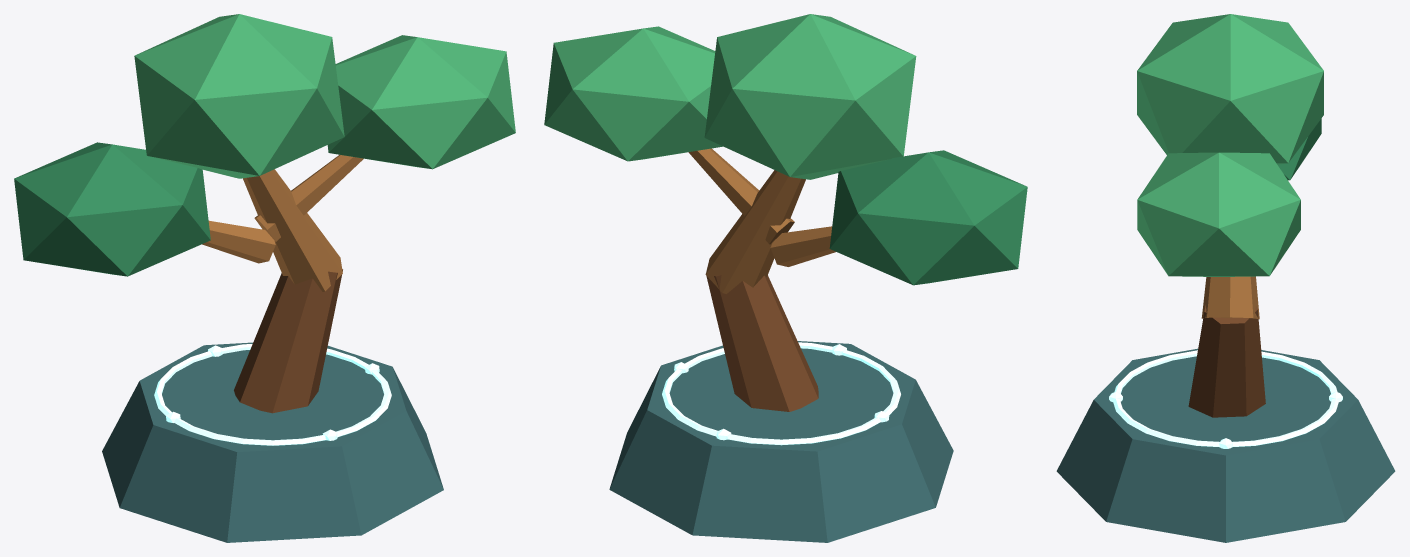
The model's file is growing.glb.
3 renders of one model, left to right at view 1: azimuth 30°, elevation 25°; view 2: azimuth 150°, elevation 25°; view 3: azimuth 270°, elevation 25°, orthographic. The views are drawn at different scales.
Parts seen in each view (by area): view 1: Bonsai_Pot, Bonsai_Crown, Bonsai_Pad_01, Bonsai_Pad_02, Bonsai_Trunk_01, Bonsai_Trunk_02, Chrono_Energy_Ring, Bonsai_Branch_02, Bonsai_Branch_01; view 2: Bonsai_Pot, Bonsai_Crown, Bonsai_Pad_01, Bonsai_Pad_02, Bonsai_Trunk_01, Bonsai_Trunk_02, Chrono_Energy_Ring, Bonsai_Branch_02, Bonsai_Branch_01; view 3: Bonsai_Pot, Bonsai_Crown, Bonsai_Pad_02, Bonsai_Trunk_01, Chrono_Energy_Ring, Bonsai_Trunk_02, Bonsai_Pad_01.
Part boxes in pixels (x1,y1,x2,y2): Bonsai_Pot: [102, 342, 443, 542]; Bonsai_Crown: [134, 14, 344, 178]; Bonsai_Pad_01: [14, 142, 210, 276]; Bonsai_Pad_02: [327, 35, 515, 169]; Bonsai_Trunk_01: [234, 269, 342, 413]; Bonsai_Trunk_02: [243, 169, 342, 291]; Chrono_Energy_Ring: [154, 344, 391, 445]; Bonsai_Branch_02: [254, 154, 363, 241]; Bonsai_Branch_01: [202, 220, 275, 263]; Bonsai_Pot: [609, 341, 953, 542]; Bonsai_Crown: [704, 14, 916, 179]; Bonsai_Pad_01: [829, 150, 1027, 285]; Bonsai_Pad_02: [544, 26, 722, 161]; Bonsai_Trunk_01: [706, 275, 818, 411]; Bonsai_Trunk_02: [705, 170, 805, 293]; Chrono_Energy_Ring: [662, 342, 900, 445]; Bonsai_Branch_02: [688, 148, 794, 244]; Bonsai_Branch_01: [770, 226, 835, 266]; Bonsai_Pot: [1056, 348, 1395, 542]; Bonsai_Crown: [1137, 14, 1323, 164]; Bonsai_Pad_02: [1137, 152, 1300, 276]; Bonsai_Trunk_01: [1188, 305, 1265, 417]; Chrono_Energy_Ring: [1113, 350, 1338, 447]; Bonsai_Trunk_02: [1201, 276, 1259, 319]; Bonsai_Pad_01: [1278, 118, 1321, 180].
Bounding box in the file's own units: 2.28 × 2.13 × 1.48.
